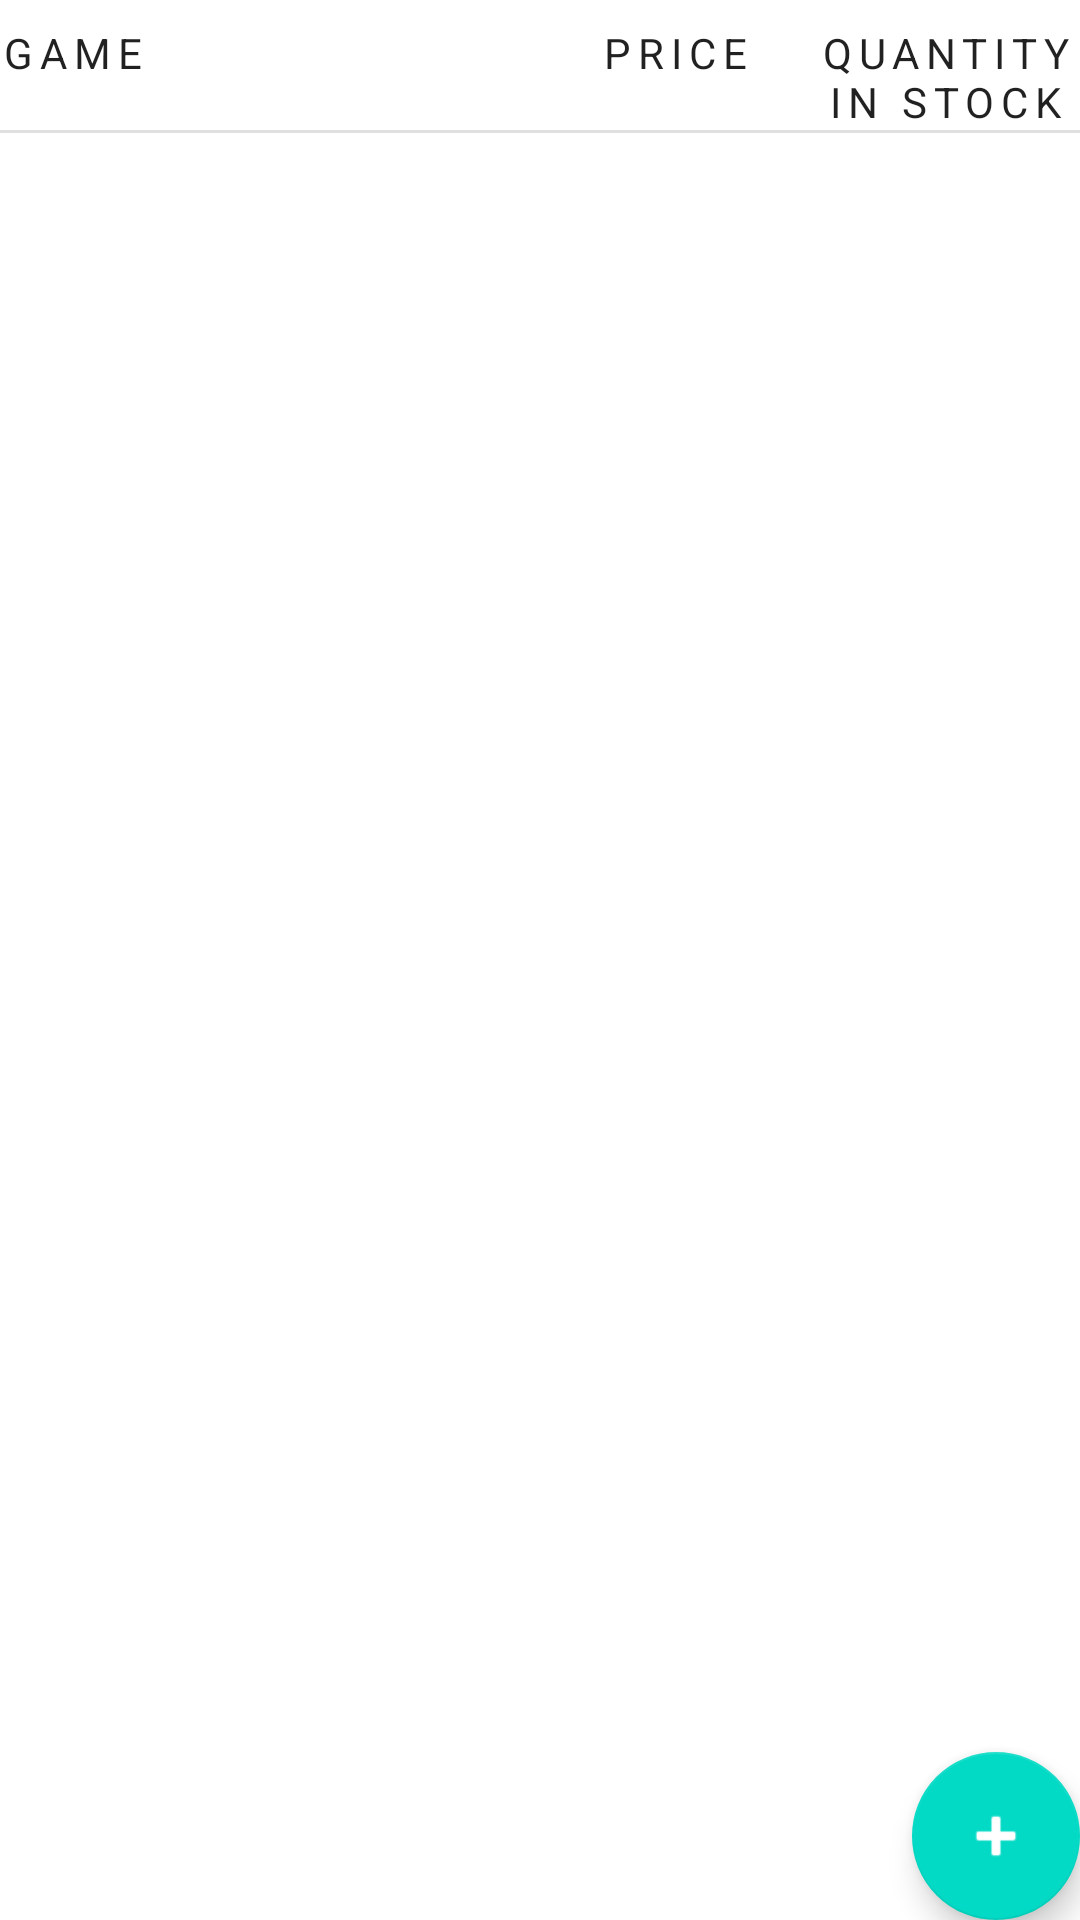

Screen size 1080*1920. Icon name, then its center in pixels as (x,y):
Add new game: (996,1836)
